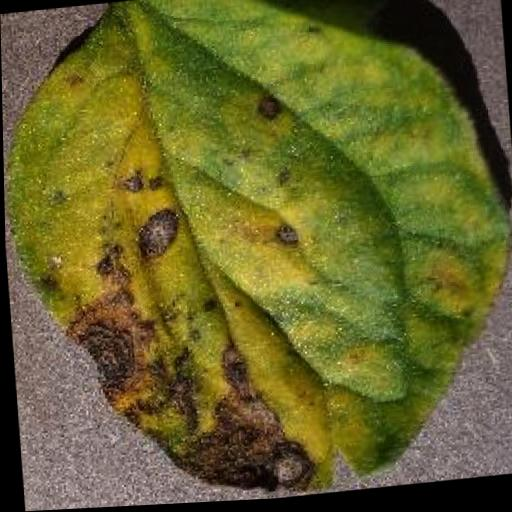Early Blight: (1, 0, 512, 512)
